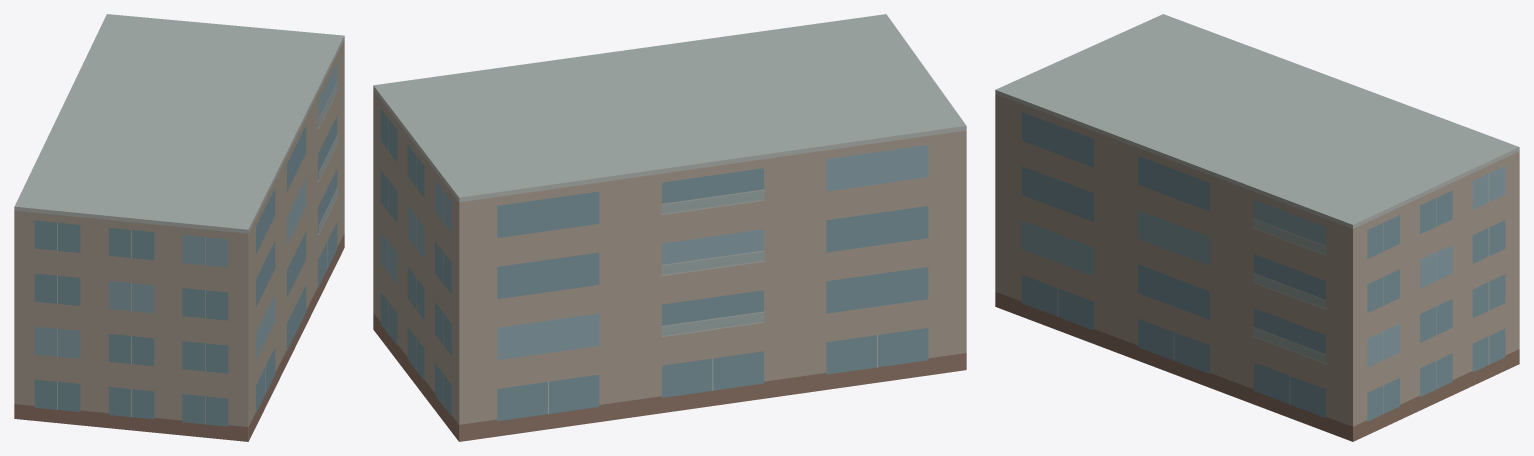
Rendered from survey-upis-32750176.glb.
3 views of the same model, side by side, from view 1: azimuth 30°, elevation 25°; view 2: azimuth 150°, elevation 25°; view 3: azimuth 270°, elevation 25° (orthographic). The views are drawn at different scales.
Visible parts, largest first — view 1: survey-upis-32750176.tmp; view 2: survey-upis-32750176.tmp; view 3: survey-upis-32750176.tmp.
Part boxes in pixels (<box>): survey-upis-32750176.tmp: <box>14,14,344,441</box>; survey-upis-32750176.tmp: <box>373,14,966,441</box>; survey-upis-32750176.tmp: <box>995,14,1519,441</box>.
Bounding box in the file's own units: 26.81 × 12.85 × 28.16.
